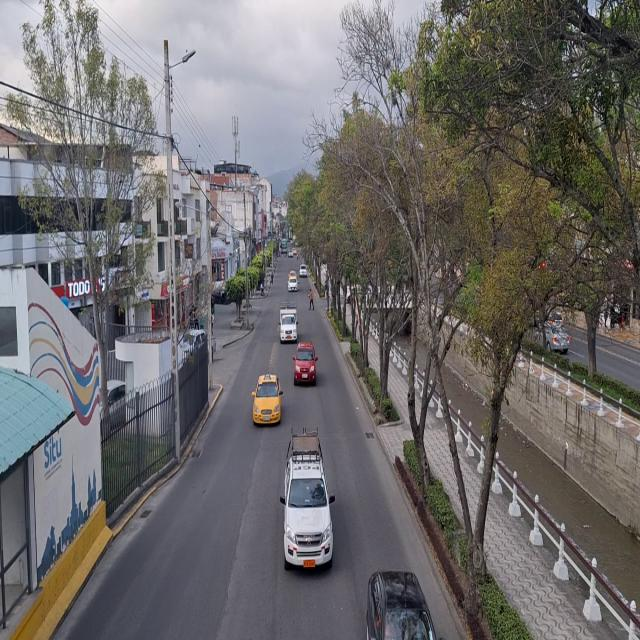CMT: (284, 438, 331, 568), (281, 303, 296, 342)
